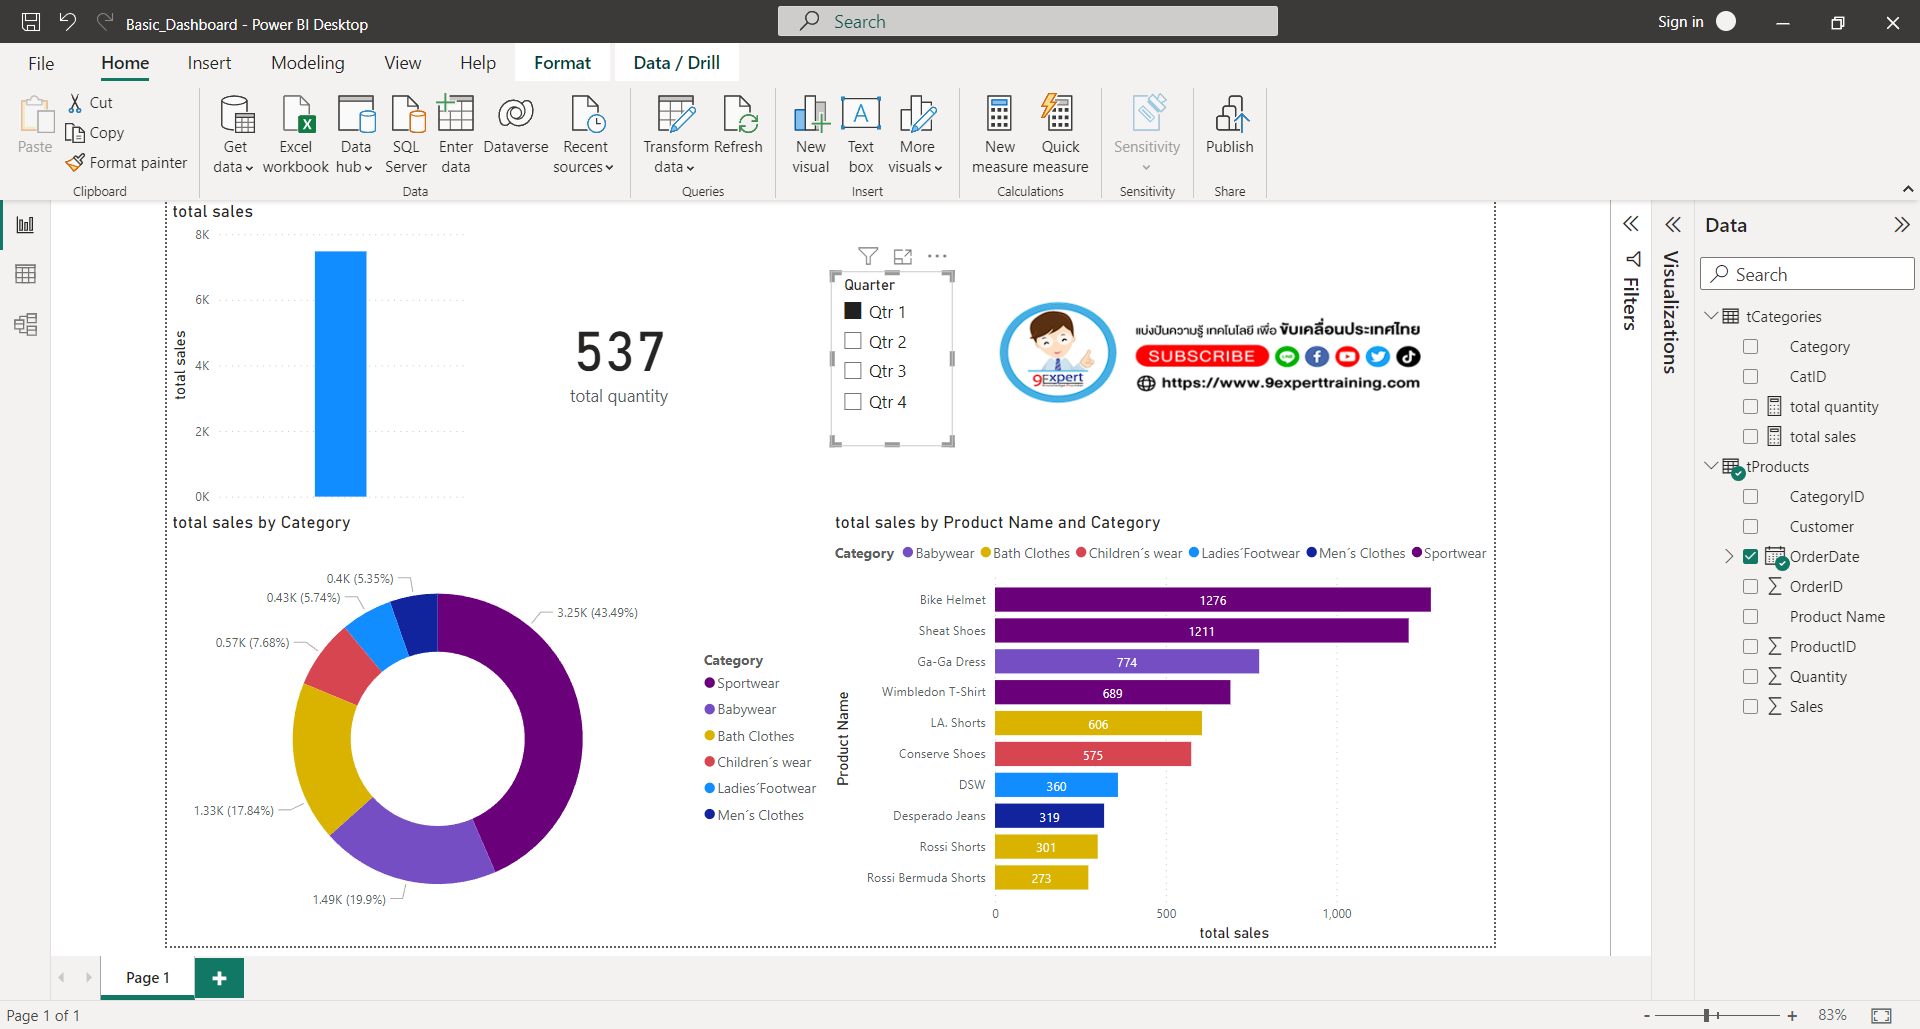

The page's visual inventory and layout, read from the dashboard file:
{"tool":"powerbi","page":{"name":"Page 1","canvas":[1280,720],"ordinal":0},"visuals":[{"type":"columnChart","fields":{"Y":["tCategories.total sales"]},"box":[0,0,291.9,300.3],"z":0},{"type":"card","fields":{"Values":["tCategories.total quantity"]},"box":[291.9,0,288.2,300.3],"z":1000},{"type":"donutChart","fields":{"Y":["tCategories.total sales"],"Category":["tCategories.Category"]},"box":[0,300.5,640.8,419.9],"z":2000},{"type":"slicer","fields":{"Values":["tProducts.OrderDate.Variation.Date Hierarchy.Quarter"]},"box":[640.8,68.6,118,168.8],"z":3000},{"type":"barChart","fields":{"Category":["tProducts.Product Name"],"Y":["tCategories.total sales"],"Series":["tCategories.Category"]},"box":[639.5,300.5,640.8,419.9],"z":4000},{"type":"image","box":[759,69,521,169],"z":5000}]}

Visuals, with their boxes on the page's 1280x720 design canvas (x1, y1, x2, y2). These are canvas units, not pixel positions in the 1920x1029 screenshot, which may show the page scaled, cropped or inside an application window:
columnChart - tCategories.total sales: 0,0,292,300
card - tCategories.total quantity: 292,0,580,300
donutChart - tCategories.total sales x tCategories.Category: 0,300,641,720
slicer - tProducts.OrderDate.Variation.Date Hierarchy.Quarter: 641,69,759,237
barChart - tProducts.Product Name x tCategories.total sales: 640,300,1280,720
image: 759,69,1280,238
